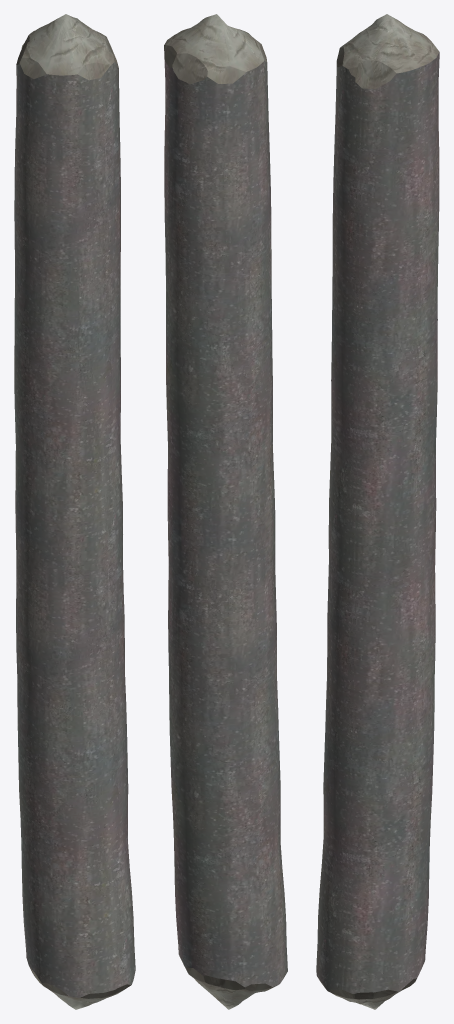
3 renders of one model, left to right at view 1: azimuth 90°, elevation 25°; view 2: azimuth 150°, elevation 25°; view 3: azimuth 330°, elevation 25°, orthographic.
Parts seen in each view (by area): view 1: SM_GF_Ash_Tree_03_quarter_02_LOD0; view 2: SM_GF_Ash_Tree_03_quarter_02_LOD0; view 3: SM_GF_Ash_Tree_03_quarter_02_LOD0.
Part boxes in pixels (box(x1,y1,x2,y2)): SM_GF_Ash_Tree_03_quarter_02_LOD0: box(14, 14, 135, 1009); SM_GF_Ash_Tree_03_quarter_02_LOD0: box(164, 14, 287, 1009); SM_GF_Ash_Tree_03_quarter_02_LOD0: box(316, 14, 439, 1009).
Size of the model in its own units: 0.5053 by 4.71 by 0.5229.
